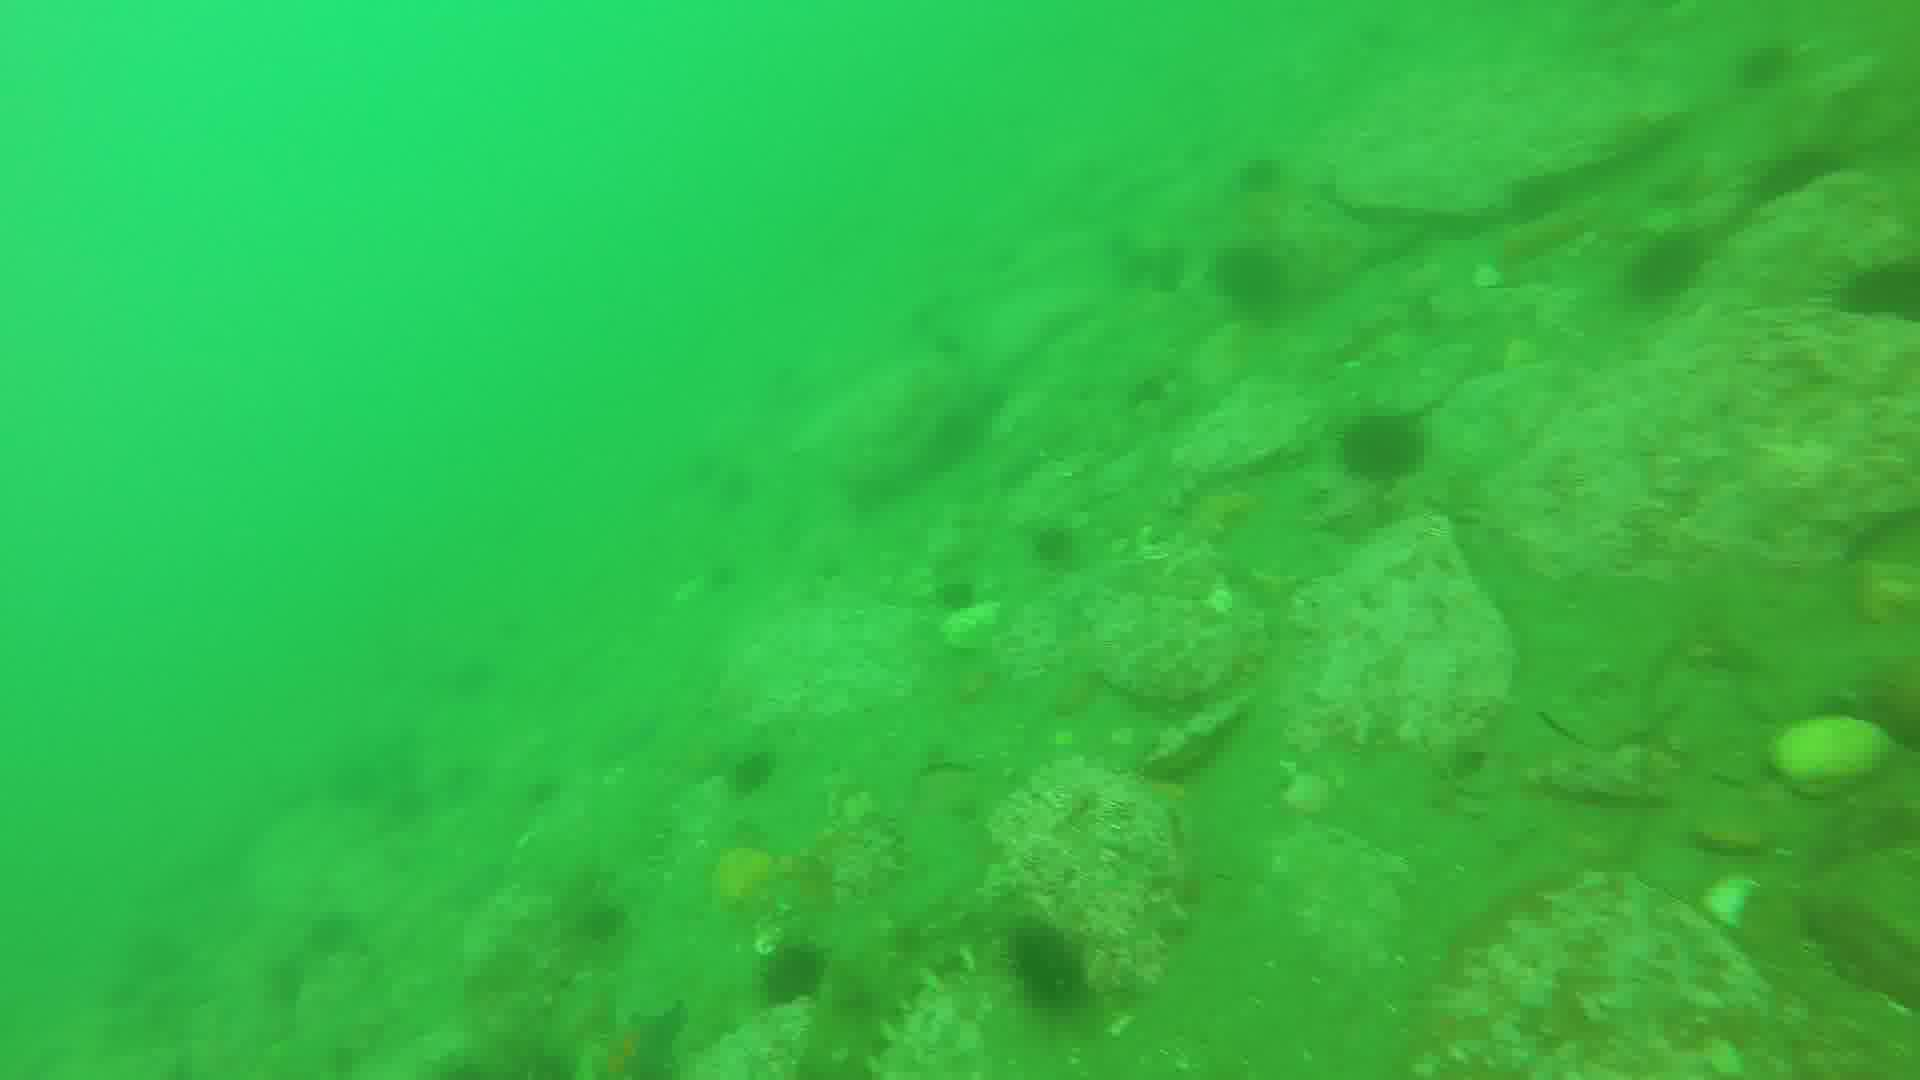echinus: (1004, 928, 1085, 1009), (1215, 243, 1295, 316), (1838, 258, 1920, 324), (760, 940, 837, 1009), (1636, 231, 1705, 301), (1350, 423, 1423, 488), (583, 898, 634, 947), (733, 748, 775, 794), (1036, 520, 1076, 566)
holothurian: (789, 905, 982, 1080)
starfish: (596, 1002, 698, 1080)
